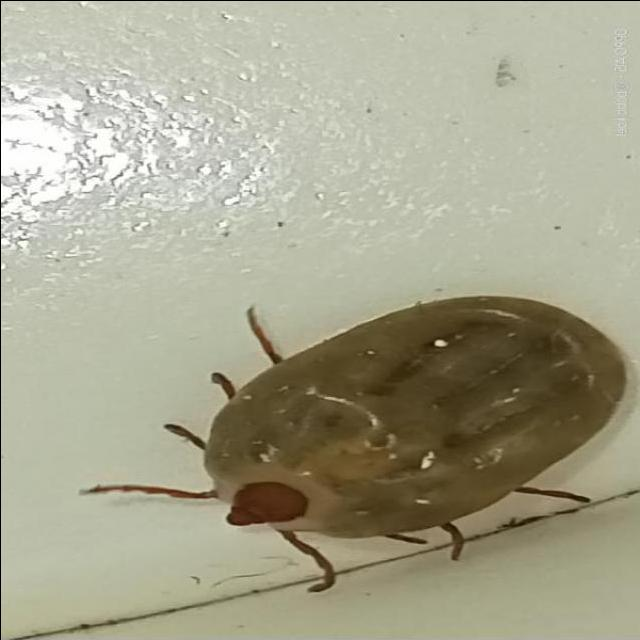Rhipicephalus Sanguineus-F-Fed: (77, 294, 629, 594)
